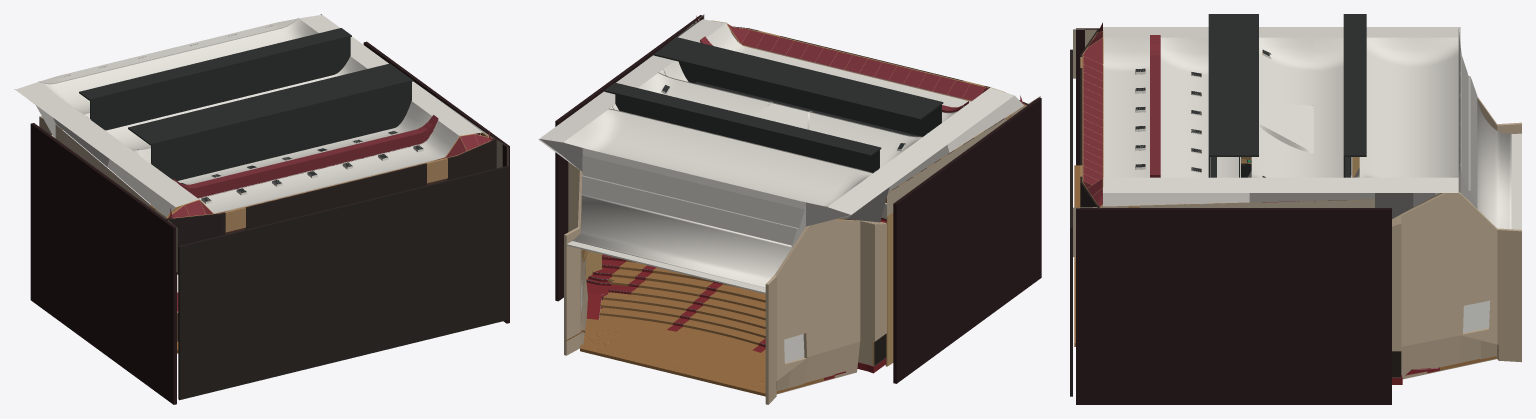
Rendered from hall.glb.
3 renders of one model, left to right at view 1: azimuth 30°, elevation 25°; view 2: azimuth 150°, elevation 25°; view 3: azimuth 270°, elevation 25°, orthographic. The views are drawn at different scales.
Visible parts, largest first — view 1: bake_ceiling, bake_lowroom, bake_walls, bake_hall_detail; view 2: bake_ceiling, bake_walls, bake_floor1, bake_carpet, bake_hall_detail, bake_trim, bake_scrim; view 3: bake_walls, bake_ceiling, bake_lowroom, bake_hall_detail, bake_scrim, bake_floor1.
Part boxes in pixels (x1,y1,x2,y2): bake_ceiling: [14, 14, 494, 218]; bake_lowroom: [177, 165, 509, 400]; bake_walls: [30, 41, 509, 404]; bake_hall_detail: [64, 25, 423, 203]; bake_ceiling: [538, 16, 1026, 287]; bake_walls: [555, 14, 1041, 404]; bake_floor1: [580, 218, 855, 396]; bake_carpet: [586, 218, 886, 380]; bake_hall_detail: [582, 85, 905, 209]; bake_trim: [586, 150, 954, 362]; bake_scrim: [581, 279, 804, 362]; bake_walls: [1073, 28, 1521, 404]; bake_ceiling: [1082, 14, 1511, 229]; bake_lowroom: [1070, 49, 1072, 396]; bake_hall_detail: [1135, 48, 1461, 177]; bake_scrim: [1463, 300, 1490, 332]; bake_floor1: [1074, 165, 1497, 370].
Bounding box in the file's own units: 29.86 × 17.64 × 31.45.
65 materials, 6 textured.
